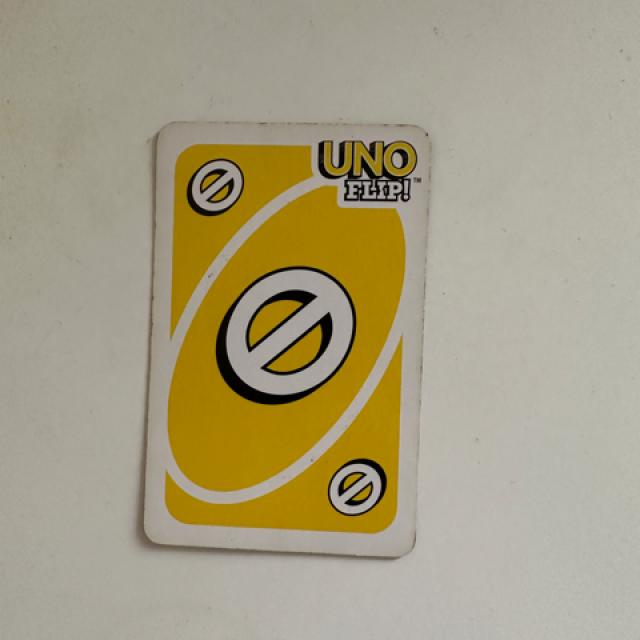lyellowskip-20: (172, 134, 260, 238)
